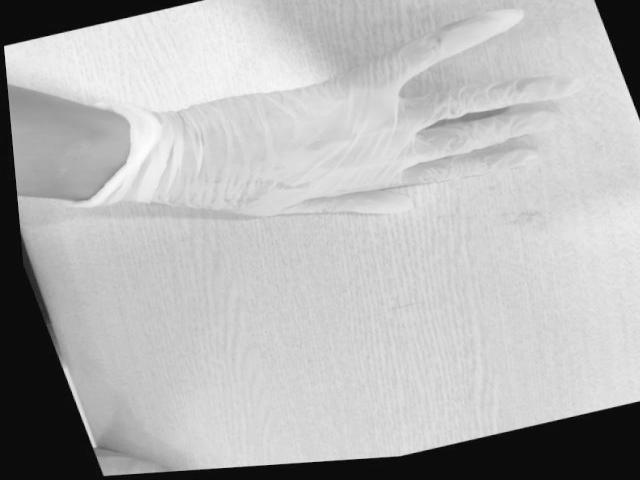gloved: (187, 9, 558, 226)
